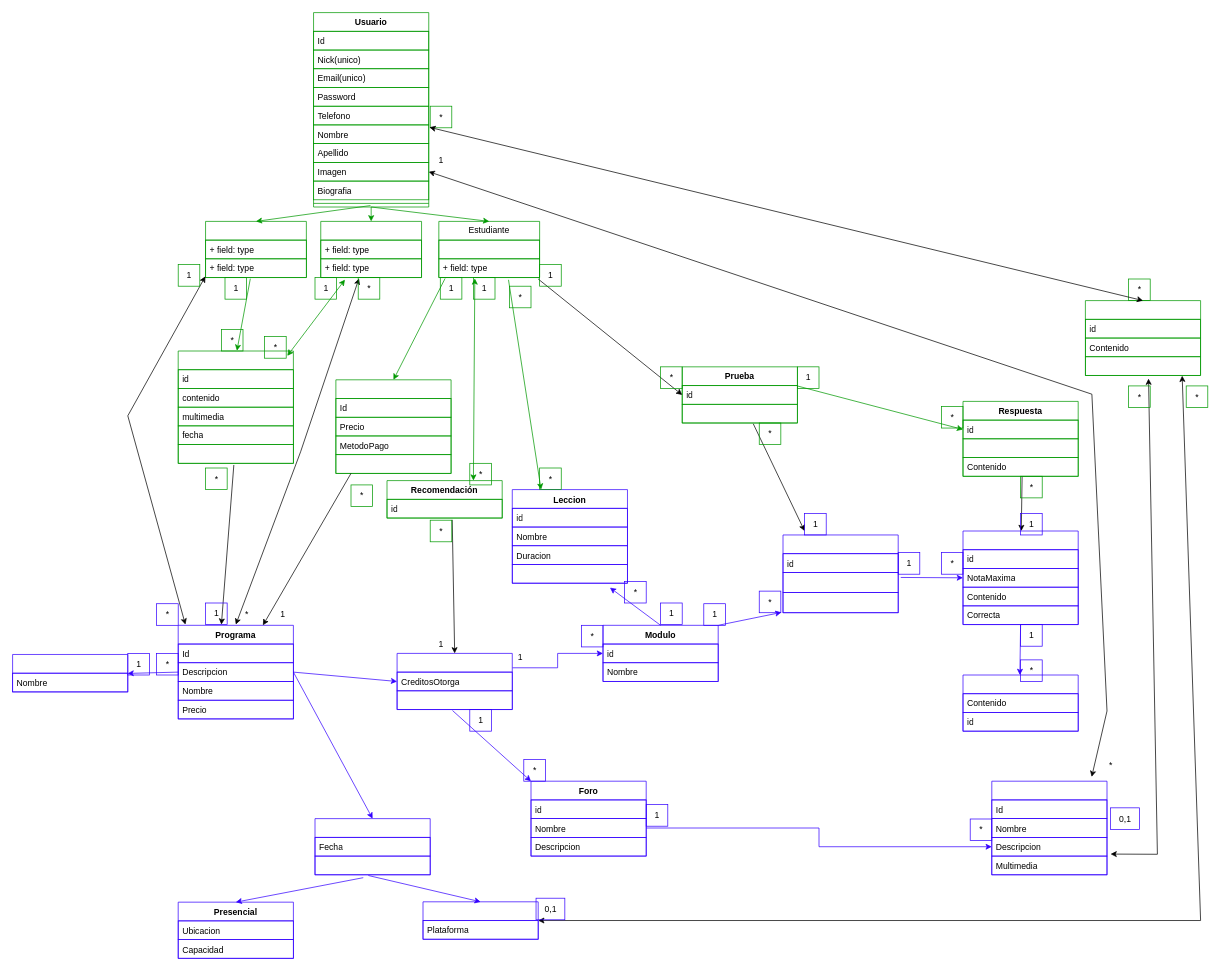
Some shapes in this 1220 by 973 pixel diagram are drawn without their labels. Each missing label, with the box of its shape:
aprobada: (177, 444, 293, 463)
Categoría: (12, 654, 128, 692)
Colaborador: (320, 221, 422, 278)
Cont.Multimedia: (512, 564, 627, 583)
Creditos: (438, 239, 540, 259)
CreditosUsados: (335, 454, 451, 473)
Curso: (396, 653, 512, 710)
Discusion: (991, 780, 1107, 875)
Evaluacion: (782, 534, 898, 613)
FechaHora: (1085, 356, 1201, 375)
Hora: (314, 855, 430, 875)
Instructores: (396, 690, 512, 710)
Mensajes: (1085, 300, 1201, 375)
NotaAprobacion: (782, 572, 898, 593)
NotaObtenida: (962, 438, 1078, 458)
NotaTotalObtenida: (681, 404, 797, 423)
opcion: (962, 674, 1078, 731)
Organizador: (205, 221, 306, 278)
Pregunta: (962, 530, 1078, 625)
Seminario: (314, 818, 430, 875)
Sugerencia: (177, 350, 293, 463)
Titulo: (782, 592, 898, 613)
Transaccion: (335, 379, 451, 473)
Virtual: (422, 901, 538, 939)
